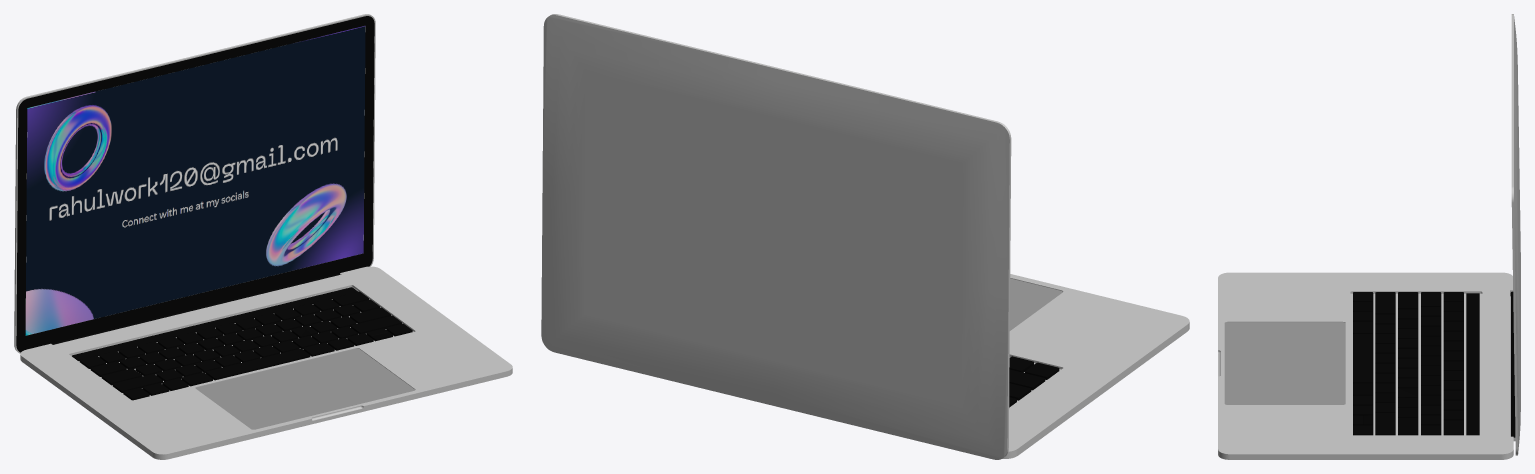
File: mac-draco.glb
The picture shows the model from 3 angles, left to right: view 1: azimuth 30°, elevation 25°; view 2: azimuth 150°, elevation 25°; view 3: azimuth 270°, elevation 25°; orthographic projection. The views are drawn at different scales.
Visible parts, largest first — view 1: screen, base, keyboard, touchbar; view 2: screen, base, keyboard; view 3: base, keyboard, screen, touchbar.
Boxes of the visible parts, <box> form: screen: <box>14,14,375,353</box>; base: <box>20,266,512,459</box>; keyboard: <box>79,291,412,400</box>; touchbar: <box>72,287,358,360</box>; screen: <box>541,14,1011,459</box>; base: <box>1002,274,1189,458</box>; keyboard: <box>1009,356,1059,407</box>; base: <box>1218,272,1513,459</box>; keyboard: <box>1353,292,1463,435</box>; screen: <box>1510,14,1520,455</box>; touchbar: <box>1466,293,1479,435</box>.
Size of the model in its own units: 8.81 by 6.16 by 6.2.
6 materials, 1 textured.
